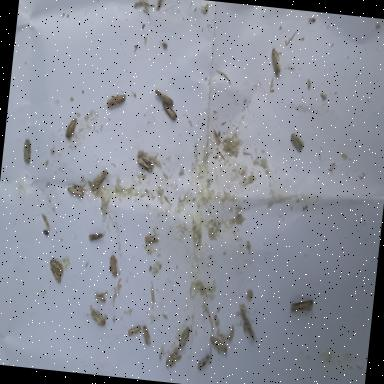pbw: (101, 88, 128, 111), (164, 346, 182, 374), (89, 168, 109, 192), (288, 296, 314, 314), (208, 336, 229, 358), (242, 320, 262, 343), (268, 45, 282, 77), (178, 323, 192, 350), (153, 89, 175, 106), (160, 102, 178, 120), (88, 308, 106, 326), (290, 132, 306, 152), (48, 256, 64, 276), (136, 156, 154, 172), (66, 184, 88, 197), (64, 116, 77, 138), (108, 255, 120, 278), (22, 138, 32, 164), (48, 266, 62, 282), (141, 325, 152, 345), (198, 352, 210, 370), (126, 324, 142, 337), (88, 231, 104, 242), (144, 232, 160, 243), (93, 292, 106, 302)
